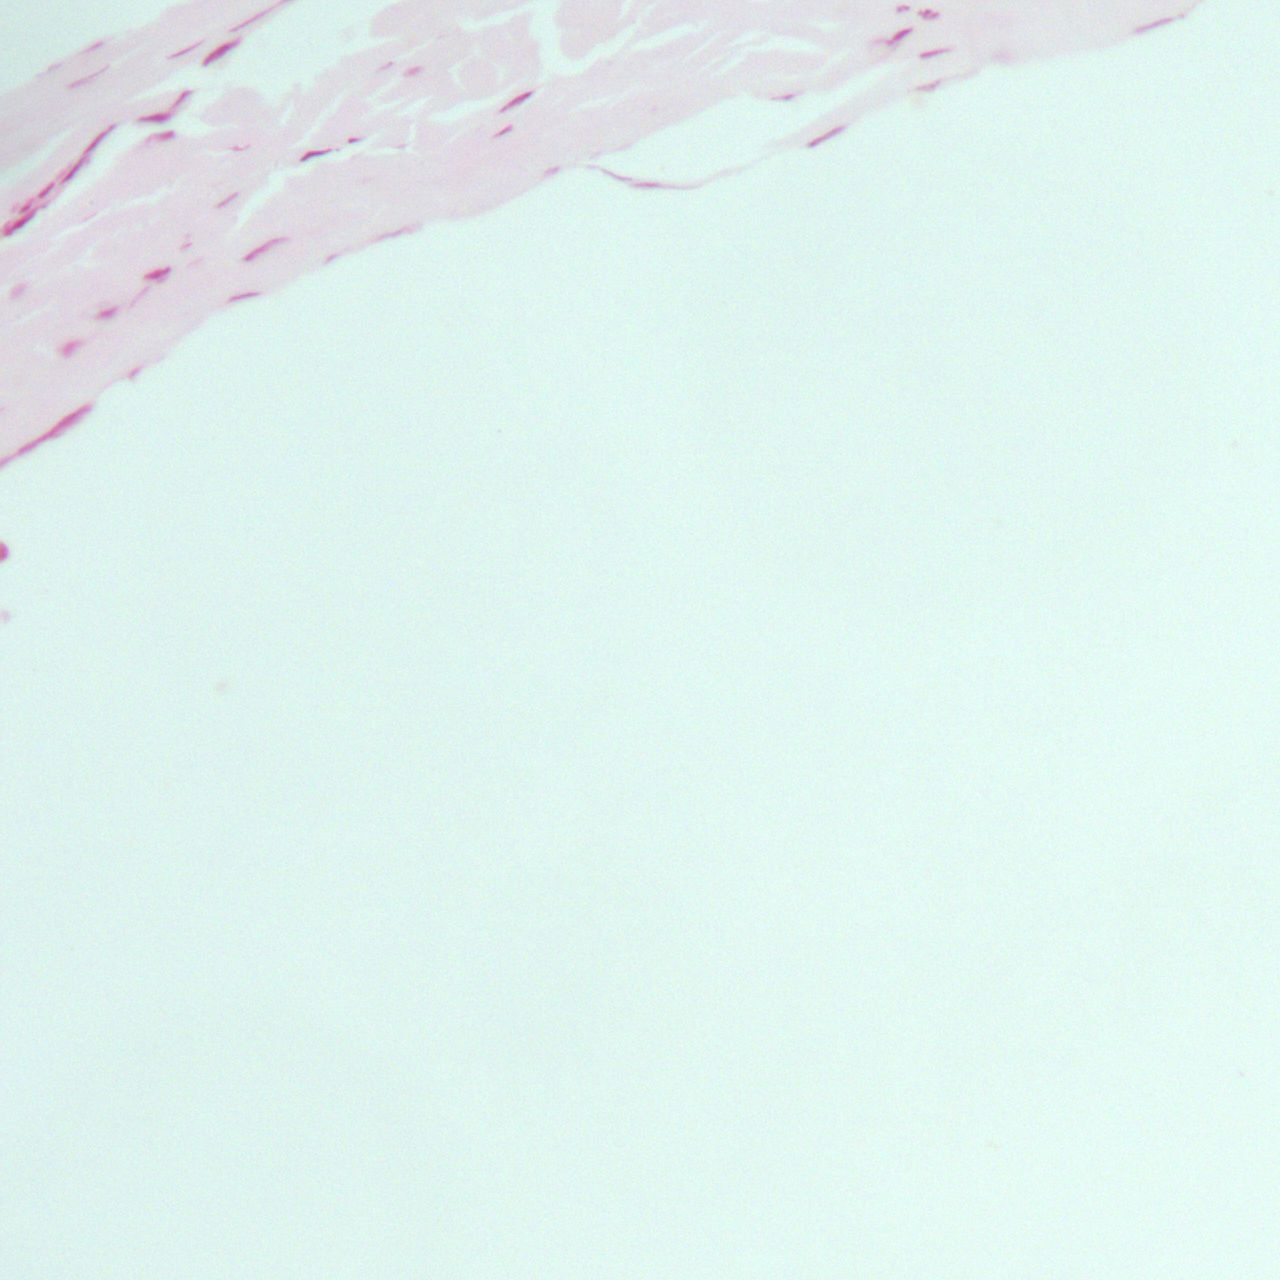nucleus-AC: (199, 33, 245, 69), (241, 229, 288, 264), (64, 62, 113, 93), (804, 121, 847, 152), (81, 120, 117, 157), (0, 204, 40, 238), (164, 36, 207, 64), (493, 88, 533, 114), (57, 155, 87, 188), (166, 83, 197, 113), (881, 23, 914, 50), (590, 163, 631, 184), (376, 222, 417, 241), (1130, 16, 1173, 35), (298, 144, 333, 166), (74, 38, 107, 57), (212, 191, 240, 212), (141, 267, 171, 285), (56, 340, 86, 358), (492, 121, 516, 141), (374, 57, 396, 77), (6, 282, 27, 302), (38, 181, 57, 200), (124, 363, 147, 381), (632, 181, 668, 191), (226, 291, 260, 301), (920, 47, 952, 57), (142, 113, 173, 123), (917, 79, 942, 91), (320, 248, 341, 264), (95, 308, 117, 321), (154, 130, 175, 142), (542, 166, 561, 178), (772, 94, 795, 103), (402, 67, 425, 75), (919, 9, 935, 20), (178, 241, 195, 250), (231, 145, 250, 152), (347, 135, 359, 144), (896, 4, 908, 12)
